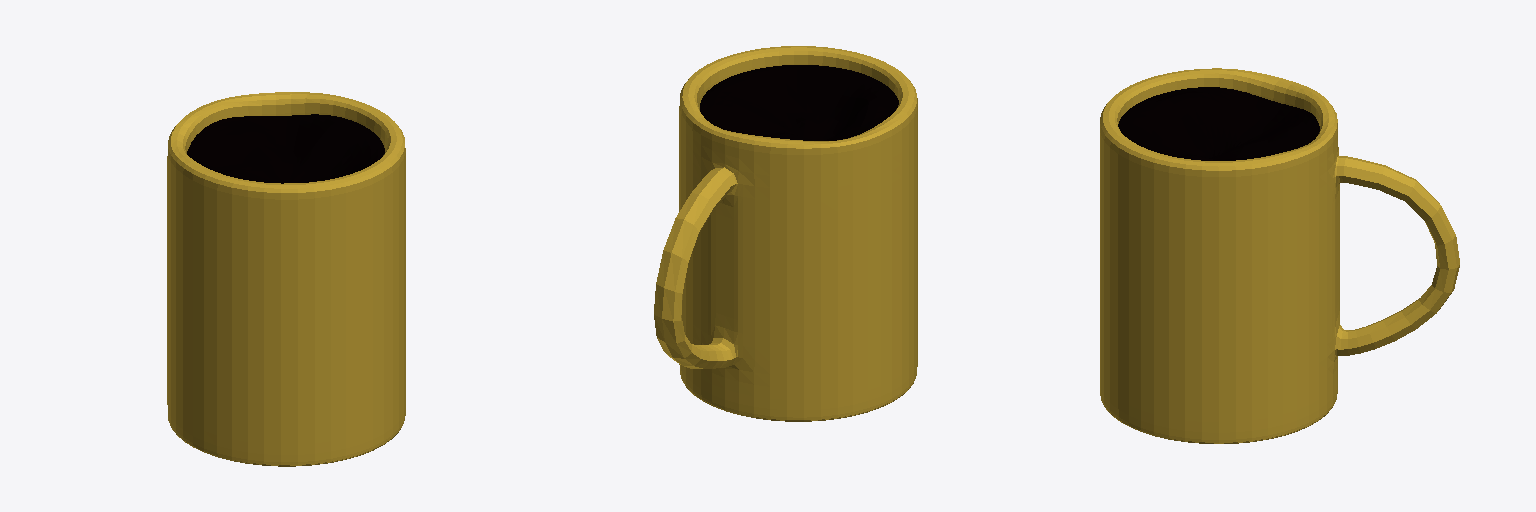
Rendered from tasse.obj.
3 views of the same model, side by side, from view 1: azimuth 30°, elevation 25°; view 2: azimuth 150°, elevation 25°; view 3: azimuth 270°, elevation 25° (orthographic).
Visible parts, largest first — view 1: Circle_Circle.003; view 2: Circle_Circle.003; view 3: Circle_Circle.003.
Boxes of the visible parts, x1=… form: Circle_Circle.003: x1=167, y1=92, x2=405, y2=466; Circle_Circle.003: x1=654, y1=46, x2=917, y2=421; Circle_Circle.003: x1=1100, y1=68, x2=1459, y2=443.
Bounding box in the file's own units: 0.9919 × 1.28 × 1.5.